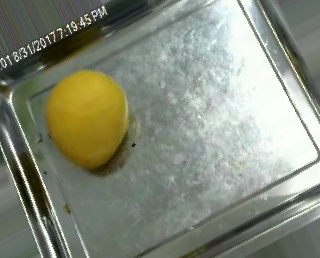Mango: (48, 72, 129, 167)
